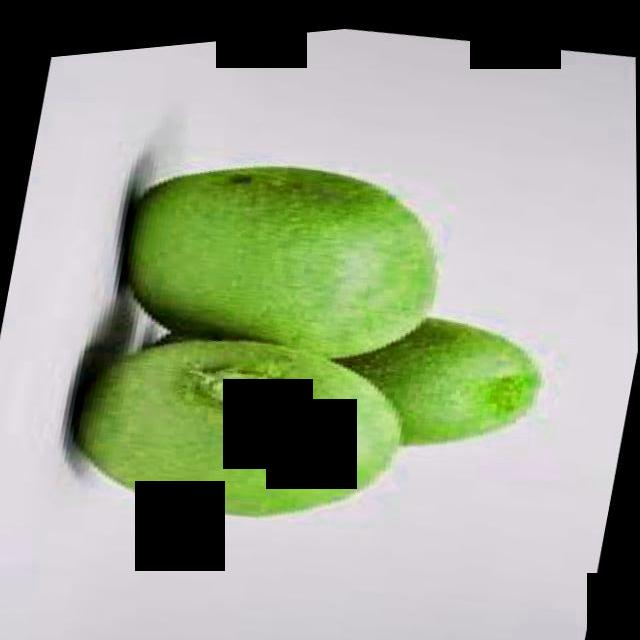kiwi: (62, 295, 420, 552), (114, 122, 462, 386), (228, 272, 561, 483)
